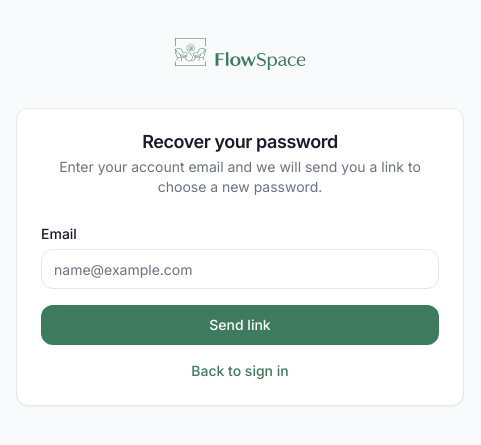
Scenario: Password pages in English (B65) › forgot-password: English copy, and the neutral notice when the API answers without text
This screenshot has width=481, height=445.
Check: the heading "Recover your password" is shown, box [142,131,338,152]
Step 1. Type "a@b" into the field labelled "Email" → (240, 269), box [41,249,439,289]
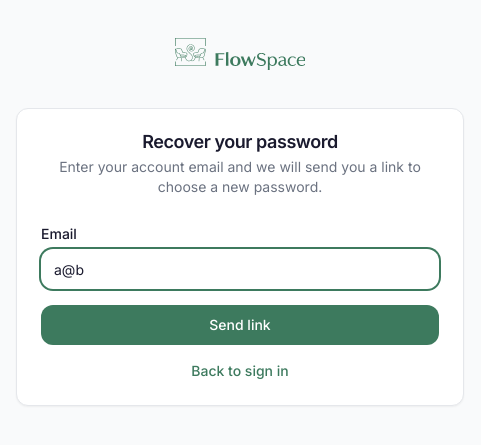
Step 2. Click the button "Send link" → click(240, 325), box [41,305,439,345]
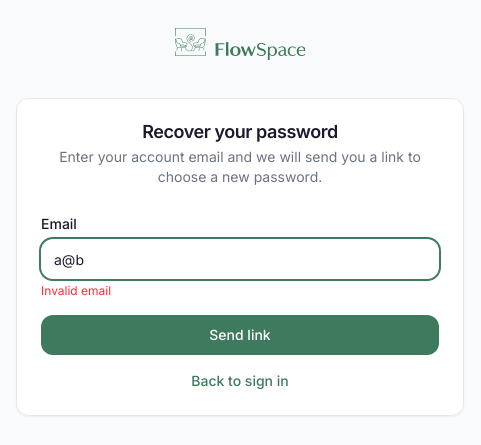
Check: the text "Invalid email" is shown, box [41,283,111,298]
Step 3. Replace the text in the field labelled "Email" with "nobody@test.com" → (240, 259), box [41,239,439,279]
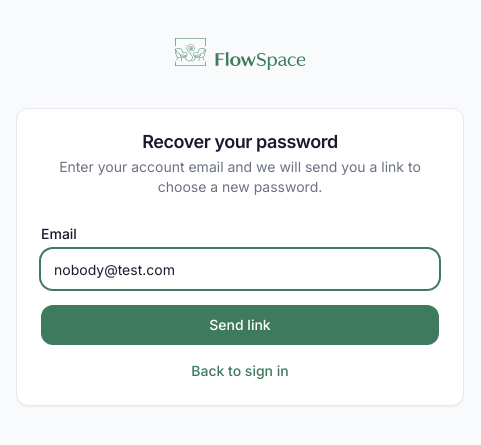
Step 4. Click the button "Send link" → click(240, 325), box [41,305,439,345]
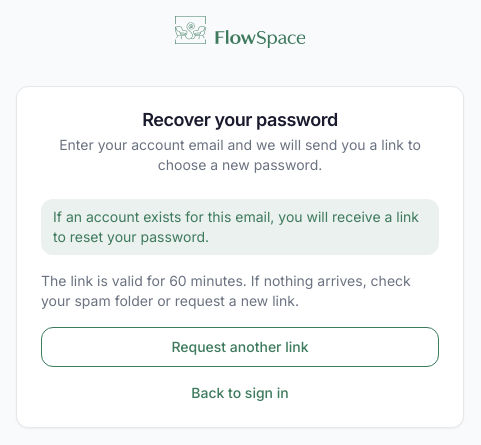
Check: the message shows "If an account exists for this email, you will receive a link to reset your password.", box [53,208,419,245]
Check: the text "valid for 60 minutes" is shown, box [41,272,411,309]
Check: the button "Request another link" is shown, box [41,327,439,367]
